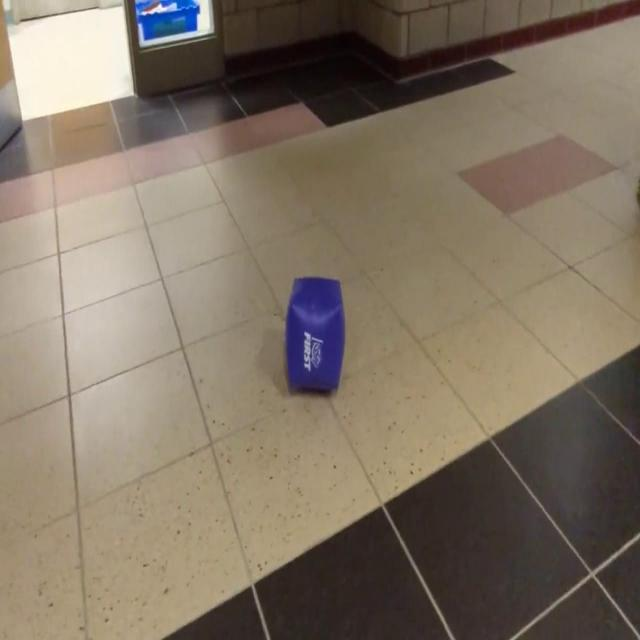frc_cube: (284, 278, 344, 390)
